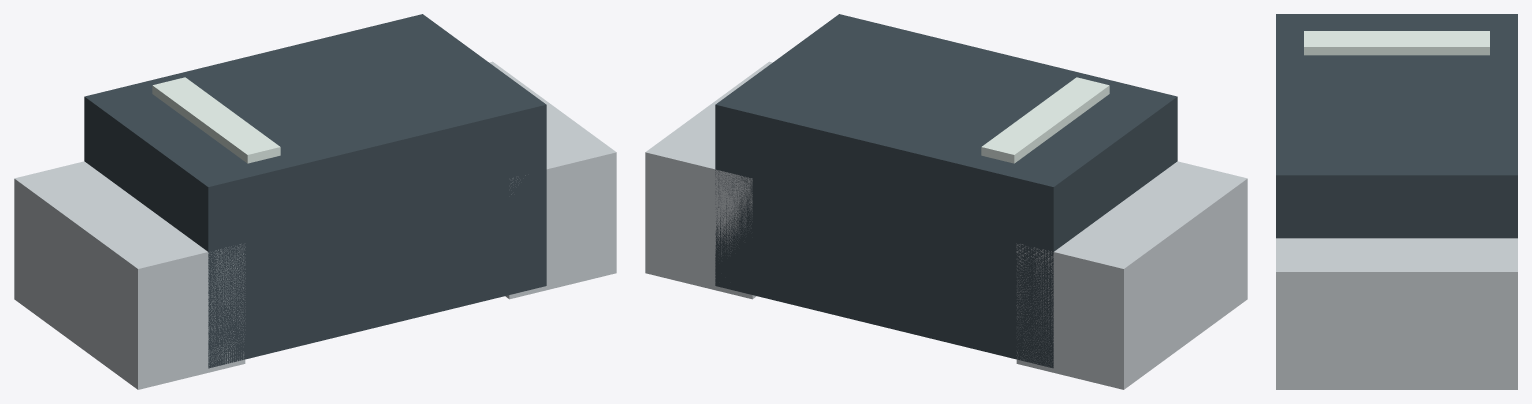
The picture shows the model from 3 angles, left to right: view 1: azimuth 30°, elevation 25°; view 2: azimuth 150°, elevation 25°; view 3: azimuth 270°, elevation 25°; orthographic projection. The views are drawn at different scales.
Visible parts, largest first — view 1: 0000__PSMAT__silicon_black, 0001__PSMAT__tin, 0002__PSMAT__tin, 0003__PSMAT__silkscreen; view 2: 0000__PSMAT__silicon_black, 0001__PSMAT__tin, 0002__PSMAT__tin, 0003__PSMAT__silkscreen; view 3: 0000__PSMAT__silicon_black, 0002__PSMAT__tin, 0003__PSMAT__silkscreen.
Part boxes in pixels (box(x1,y1,x2,y2)): 0000__PSMAT__silicon_black: box(84, 14, 546, 368); 0001__PSMAT__tin: box(14, 161, 245, 389); 0002__PSMAT__tin: box(489, 61, 616, 299); 0003__PSMAT__silkscreen: box(152, 77, 280, 163); 0000__PSMAT__silicon_black: box(715, 14, 1177, 368); 0001__PSMAT__tin: box(1016, 161, 1247, 389); 0002__PSMAT__tin: box(645, 61, 772, 299); 0003__PSMAT__silkscreen: box(981, 77, 1109, 163); 0000__PSMAT__silicon_black: box(1276, 14, 1517, 238); 0002__PSMAT__tin: box(1276, 238, 1517, 389); 0003__PSMAT__silkscreen: box(1304, 31, 1489, 55).
Size of the model in its own units: 0.0058 by 0.00225 by 0.0026.
